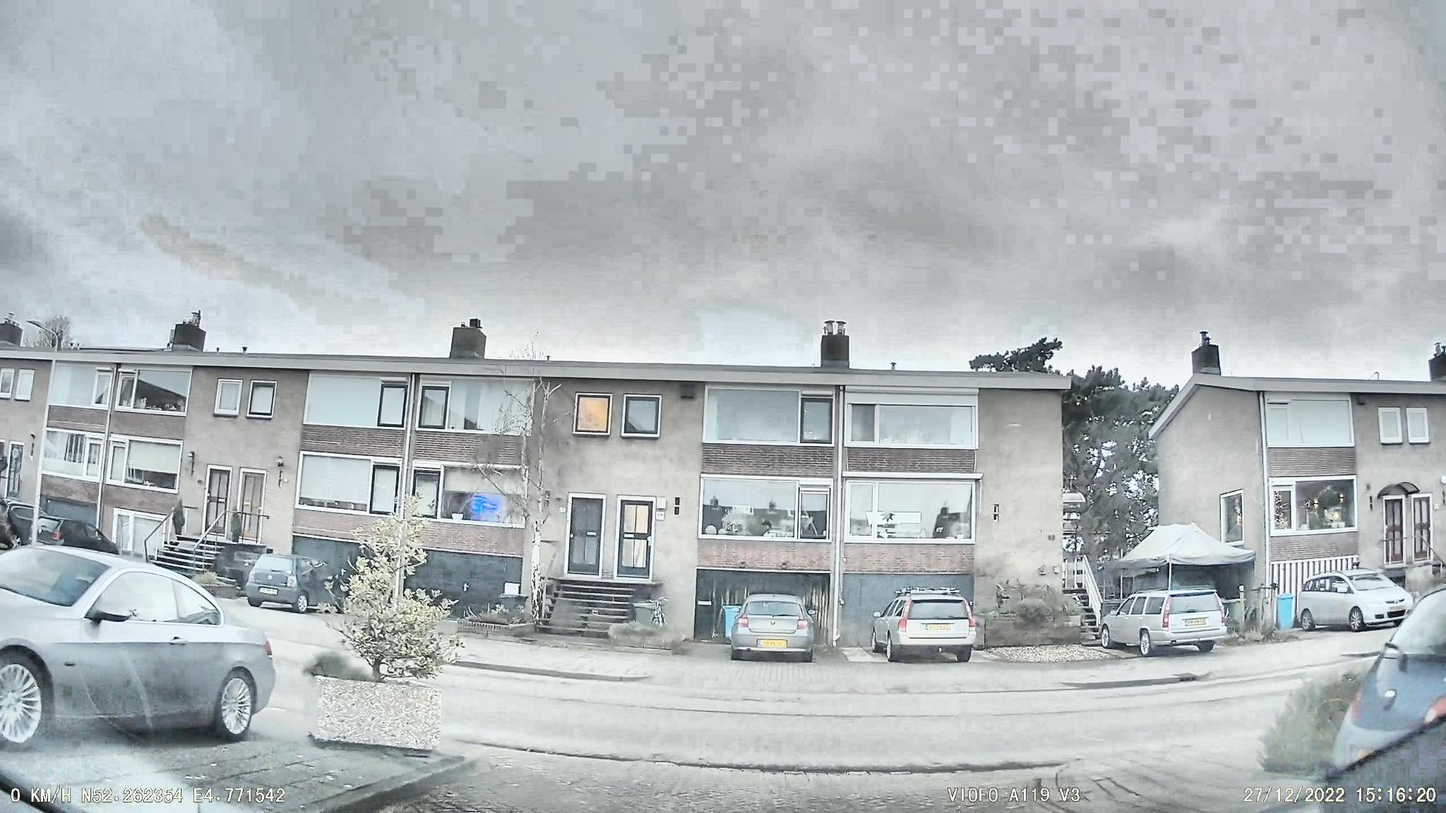Roads: (356, 643, 1358, 813)
